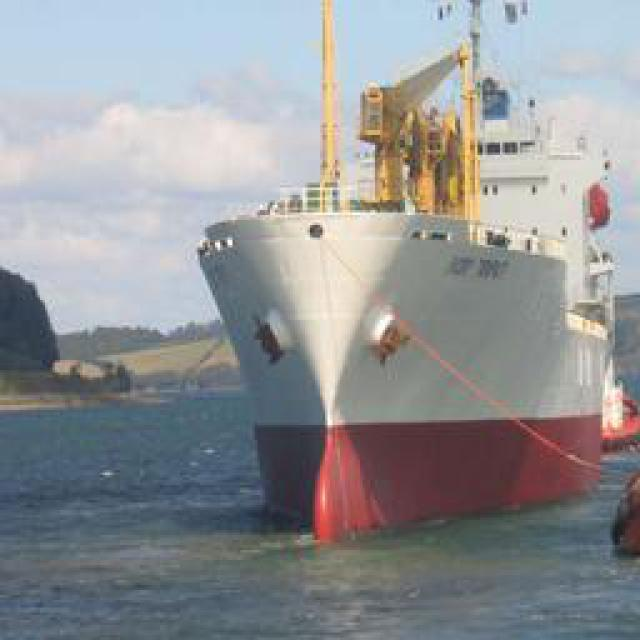Ship: (194, 89, 619, 532)
